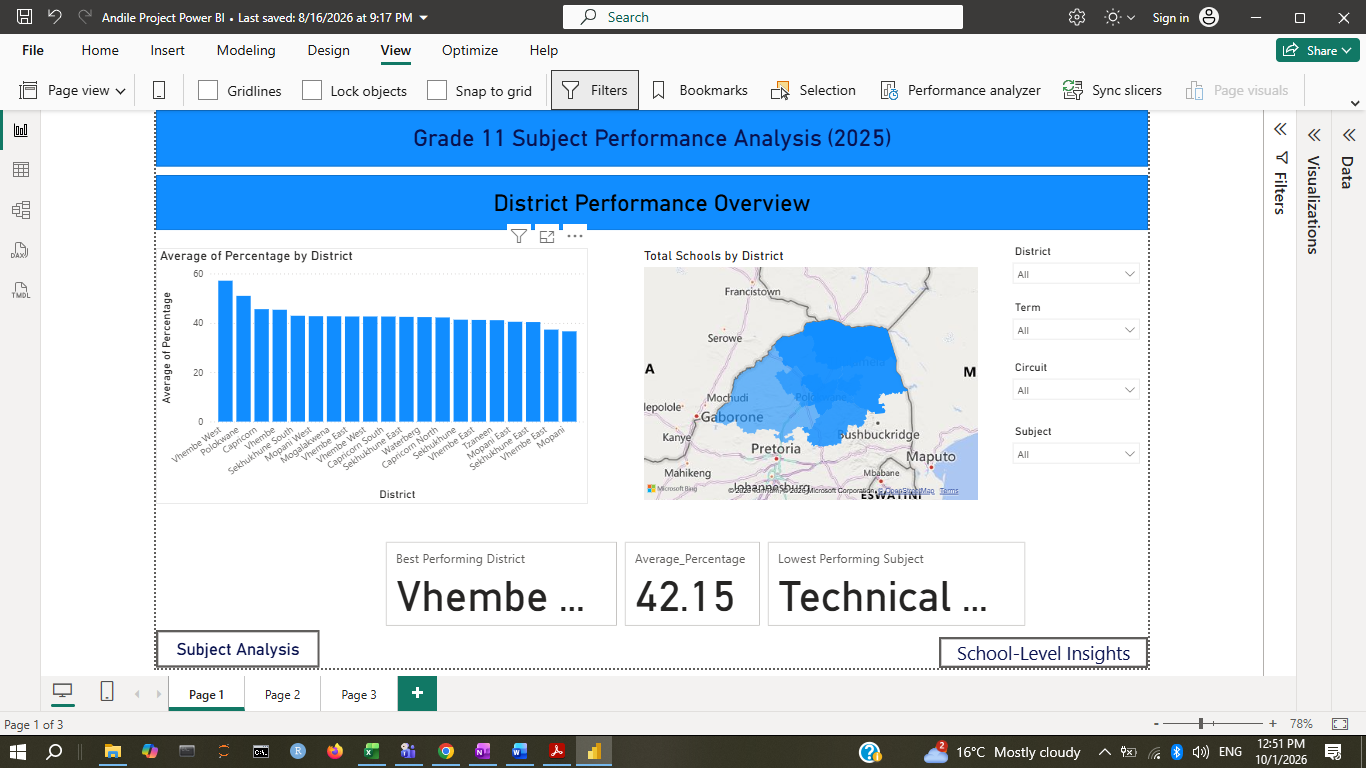

The dashboard page shown, as its layout file describes it:
{"tool":"powerbi","page":{"name":"Page 1","canvas":[1280,720],"ordinal":0},"visuals":[{"type":"shape","box":[0,84.3,1280,71.4],"z":3000},{"type":"columnChart","fields":{"Category":["Sheet2.District"],"Y":["Avg(Sheet2.Percentage)"]},"box":[0,178.6,557.1,330],"z":3001},{"type":"filledMap","fields":{"Category":["Sheet2.District"]},"box":[624.3,178.6,441.4,330],"z":3002},{"type":"shape","box":[0,0,1280,72.9],"z":3003},{"type":"actionButton","box":[0,671.4,211.4,48.6],"z":3004},{"type":"actionButton","box":[1010,680,270,40],"z":3005},{"type":"slicer","fields":{"Values":["Sheet2.District"]},"box":[1095.7,168.6,184.3,72.9],"z":3006},{"type":"slicer","fields":{"Values":["Sheet2.Term"]},"box":[1095.7,241.4,184.3,77.1],"z":3007},{"type":"slicer","fields":{"Values":["Sheet2.Circuit"]},"box":[1095.7,318.6,184.3,82.9],"z":3008},{"type":"slicer","fields":{"Values":["Sheet2.Name"]},"box":[1095.7,401.4,184.3,71.4],"z":3009},{"type":"cardVisual","fields":{"Data":["Sheet2.Average_Percentage"]},"box":[600,552.9,184.3,118.6],"z":3010},{"type":"cardVisual","fields":{"Data":["Sheet2.Lowest Performing Subject"]},"box":[784.3,552.9,342.9,118.6],"z":3011},{"type":"cardVisual","fields":{"Data":["Sheet2.Best Performing District"]},"box":[291.4,552.9,308.6,118.6],"z":3012}]}

Visuals, with their boxes on the page's 1280x720 design canvas (x1, y1, x2, y2). These are canvas units, not pixel positions in the 1366x768 screenshot, which may show the page scaled, cropped or inside an application window:
shape: rect(0, 84, 1280, 156)
columnChart - Sheet2.District x Avg(Sheet2.Percentage): rect(0, 179, 557, 509)
filledMap - Sheet2.District: rect(624, 179, 1066, 509)
shape: rect(0, 0, 1280, 73)
actionButton: rect(0, 671, 211, 720)
actionButton: rect(1010, 680, 1280, 720)
slicer - Sheet2.District: rect(1096, 169, 1280, 242)
slicer - Sheet2.Term: rect(1096, 241, 1280, 318)
slicer - Sheet2.Circuit: rect(1096, 319, 1280, 402)
slicer - Sheet2.Name: rect(1096, 401, 1280, 473)
cardVisual - Sheet2.Average_Percentage: rect(600, 553, 784, 672)
cardVisual - Sheet2.Lowest Performing Subject: rect(784, 553, 1127, 672)
cardVisual - Sheet2.Best Performing District: rect(291, 553, 600, 672)
